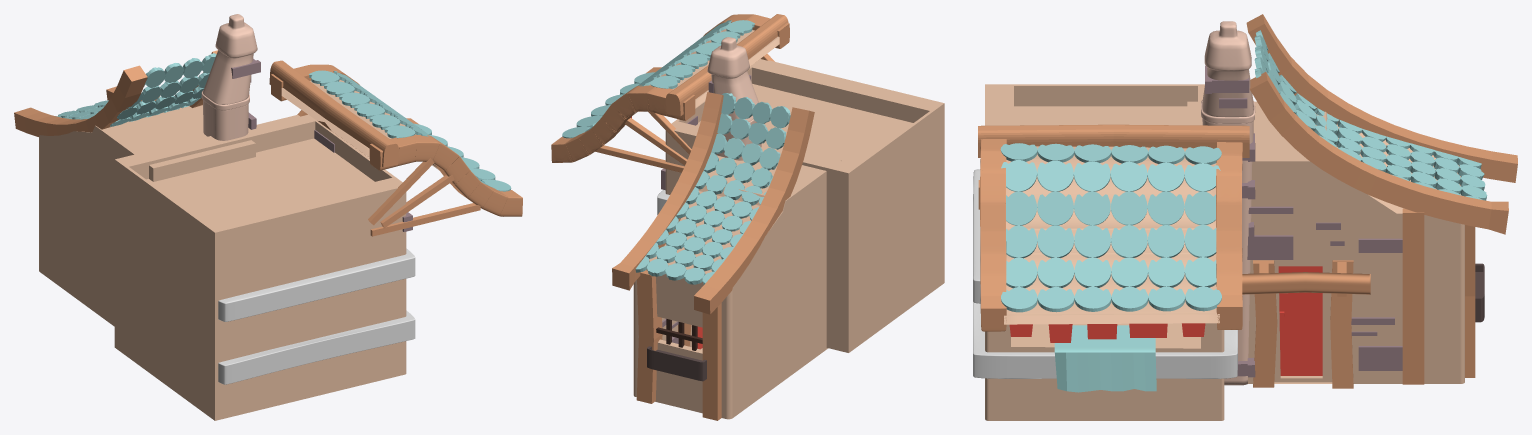
File: stylizedCornerHouse.fbx
The picture shows the model from 3 angles, left to right: view 1: azimuth 30°, elevation 25°; view 2: azimuth 150°, elevation 25°; view 3: azimuth 270°, elevation 25°; orthographic projection. The views are drawn at different scales.
Parts seen in each view (by area): view 1: Cube, Cube.001, Cylinder.001, Cube.004, Cube.002, Cube.003, Cube.051, Cylinder, Cube.053, Cube.049, Cube.017; view 2: Cube, Cube.001, Cylinder.001, Cube.051, Cylinder, Cube.002, Cube.005, Cube.006, Cube.053, Cube.015, Cube.044; view 3: Cylinder, Cube.001, Cylinder.001, Cube, Cube.051, Cube.017, Cube.053, Plane.006, Cube.002, Cube.003, Cube.007, Cube.018 (+7 smaller).
Boxes of the visible parts, bbox=[...] form: Cube: bbox=[114, 114, 406, 420]; Cube.001: bbox=[39, 105, 255, 326]; Cylinder.001: bbox=[14, 50, 217, 136]; Cube.004: bbox=[218, 248, 415, 321]; Cube.002: bbox=[201, 14, 257, 140]; Cube.003: bbox=[218, 310, 415, 384]; Cube.051: bbox=[270, 64, 522, 216]; Cylinder: bbox=[281, 70, 511, 191]; Cube.053: bbox=[269, 60, 398, 167]; Cube.049: bbox=[368, 158, 480, 236]; Cube.017: bbox=[231, 58, 412, 231]; Cube: bbox=[665, 59, 944, 352]; Cube.001: bbox=[633, 141, 841, 419]; Cylinder.001: bbox=[612, 92, 814, 314]; Cube.051: bbox=[551, 14, 789, 162]; Cylinder: bbox=[562, 20, 779, 138]; Cube.002: bbox=[707, 37, 761, 160]; Cube.005: bbox=[636, 270, 662, 403]; Cube.006: bbox=[702, 303, 721, 420]; Cube.053: bbox=[666, 14, 788, 116]; Cube.015: bbox=[595, 111, 691, 172]; Cube.044: bbox=[647, 346, 706, 381]; Cylinder: bbox=[1000, 143, 1221, 324]; Cube.001: bbox=[1187, 101, 1464, 383]; Cylinder.001: bbox=[1246, 14, 1517, 234]; Cube: bbox=[985, 84, 1224, 420]; Cube.051: bbox=[980, 139, 1242, 331]; Cube.017: bbox=[1205, 65, 1402, 377]; Cube.053: bbox=[978, 124, 1249, 157]; Plane.006: bbox=[1054, 325, 1156, 392]; Cube.002: bbox=[1201, 21, 1255, 385]; Cube.003: bbox=[973, 302, 1237, 378]; Cube.007: bbox=[1402, 208, 1424, 384]; Cube.018: bbox=[1278, 266, 1322, 375].
Bounding box in the file's own units: 3287 × 3077 × 4216.
